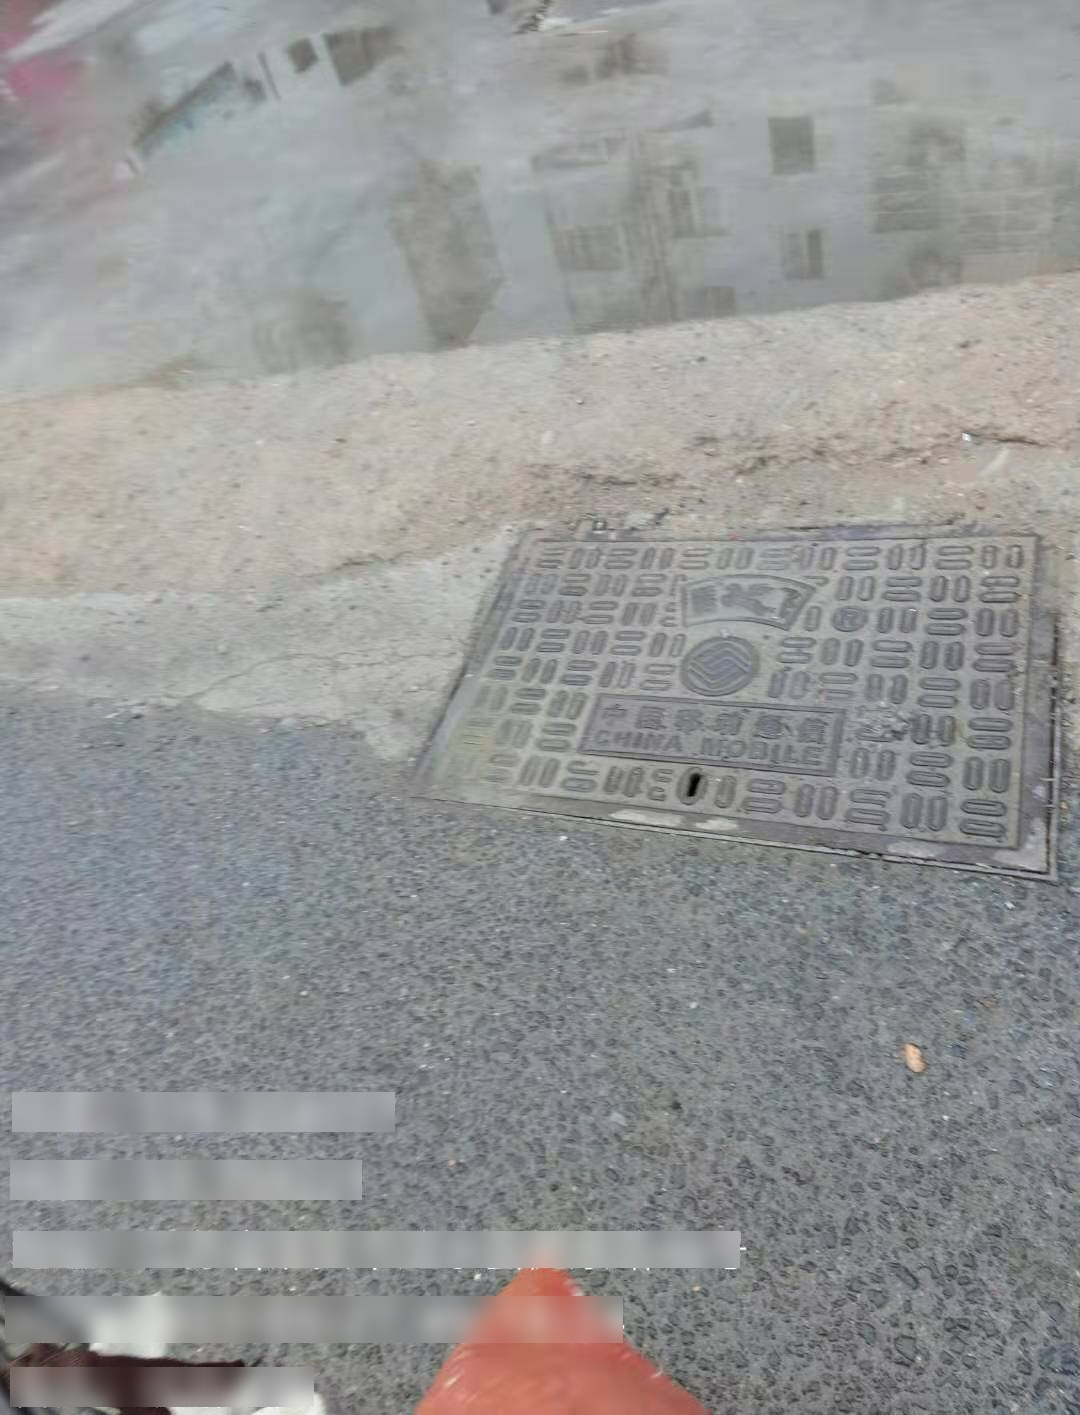good: (414, 522, 1065, 890)
